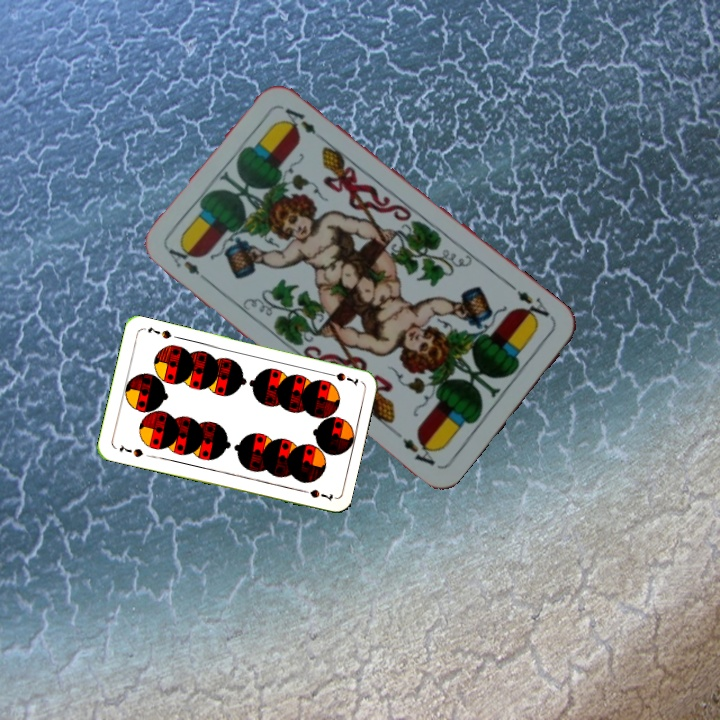EA: (164, 240, 213, 286), (512, 285, 558, 326)
S7: (323, 368, 361, 389), (115, 441, 145, 460)
